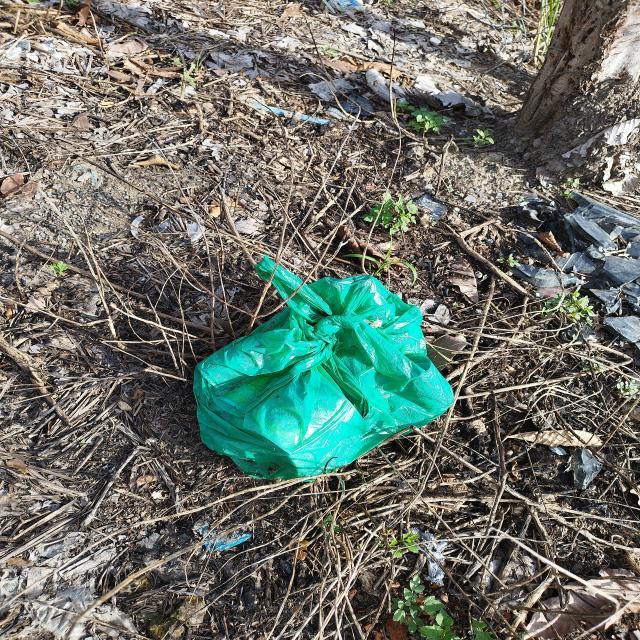trash bag: (193, 254, 452, 481)
